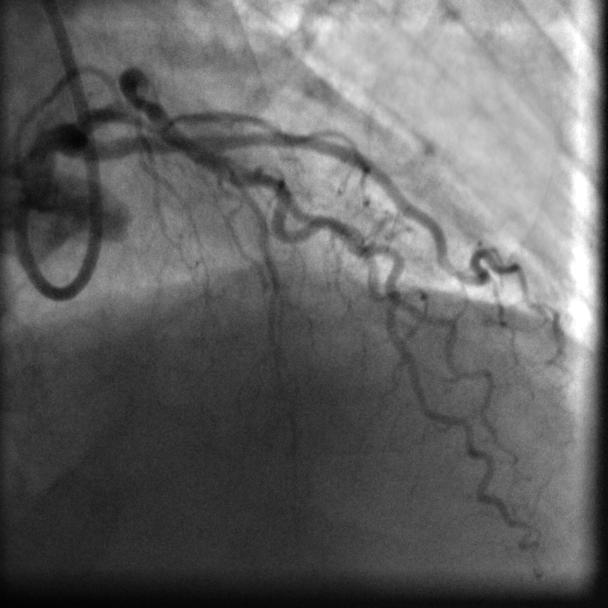Stenosis: (126, 79, 150, 116)
